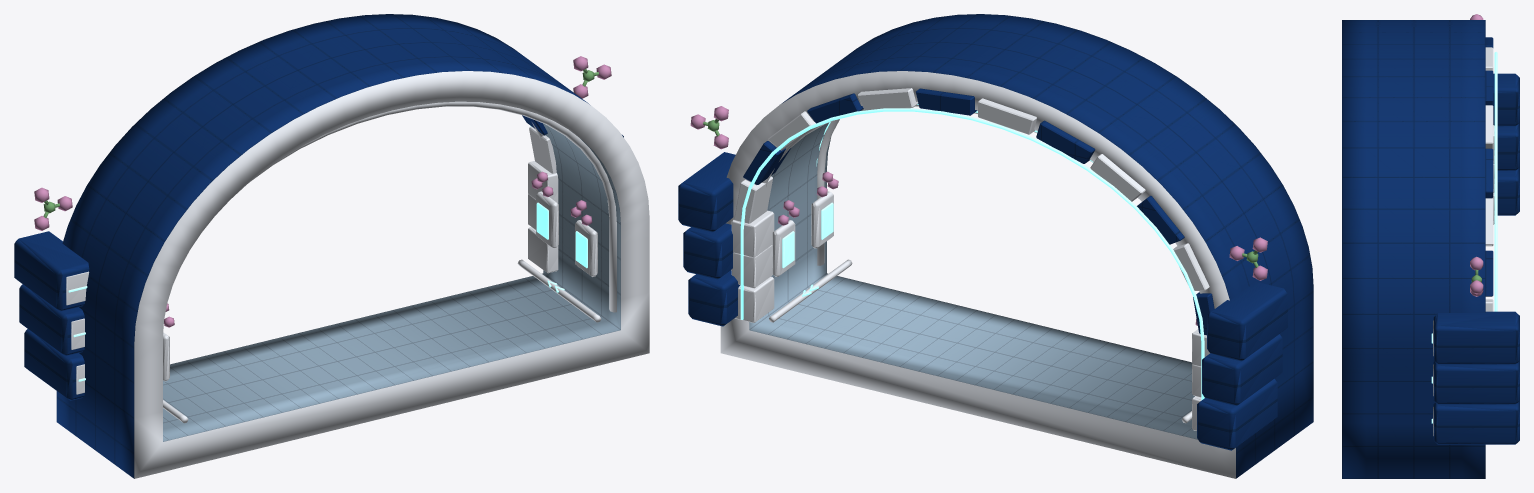
File: portal_exit_lod1.glb
3 views of the same model, side by side, from view 1: azimuth 30°, elevation 25°; view 2: azimuth 150°, elevation 25°; view 3: azimuth 270°, elevation 25° (orthographic). The views are drawn at different scales.
Visible parts, largest first — view 1: TunnelGeometry.001; view 2: TunnelGeometry.001; view 3: TunnelGeometry.001.
Part boxes in pixels (<box>): TunnelGeometry.001: <box>14,14,649,478</box>; TunnelGeometry.001: <box>678,14,1313,478</box>; TunnelGeometry.001: <box>1342,14,1519,478</box>.
Size of the model in its own units: 17.08 by 9.52 by 4.95.
Materials: 6 (2 with a texture image).
